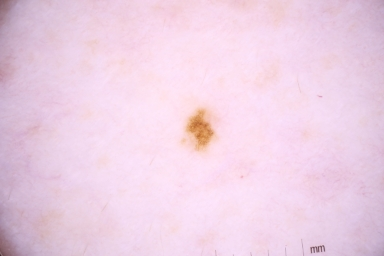nevus: (190, 108, 215, 150)
